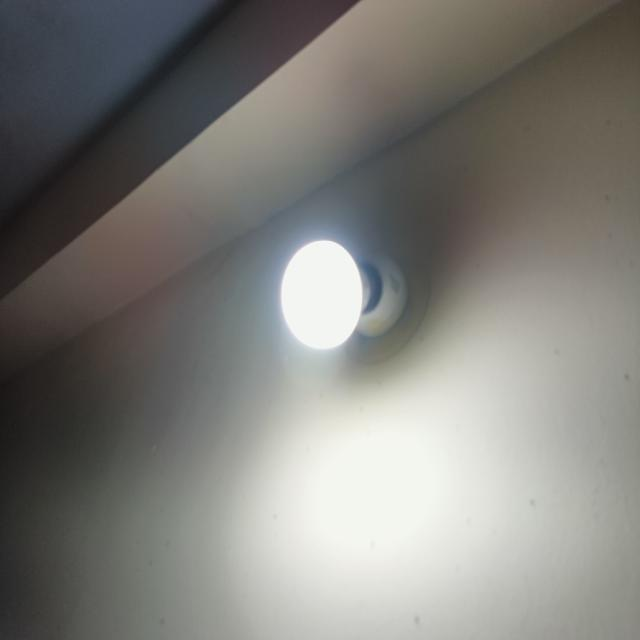bulb_on: (278, 237, 364, 352)
